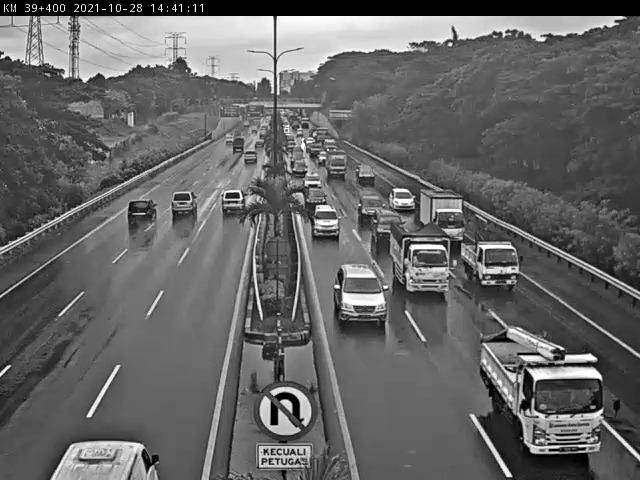car: (332, 264, 388, 325), (370, 207, 404, 242), (309, 202, 341, 239), (356, 193, 386, 221), (388, 187, 416, 210)
mid truck: (478, 331, 604, 457), (389, 221, 451, 297), (460, 234, 520, 288), (421, 191, 467, 242), (125, 198, 159, 226), (169, 190, 199, 215), (221, 189, 247, 214)
